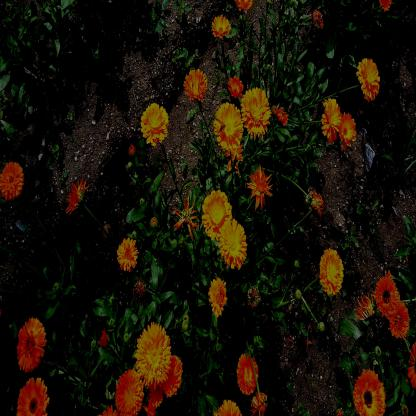marigold: (135, 321, 170, 381), (17, 318, 45, 371), (354, 370, 383, 416), (115, 369, 143, 415), (242, 88, 269, 134), (202, 192, 229, 237), (17, 378, 48, 416), (215, 102, 242, 145), (141, 104, 168, 144), (0, 162, 25, 204), (319, 247, 341, 294), (221, 224, 244, 266), (359, 59, 380, 104), (237, 354, 258, 395), (323, 98, 340, 143), (376, 278, 394, 317), (390, 301, 408, 338), (163, 359, 181, 396), (184, 70, 206, 99), (252, 174, 270, 205), (118, 238, 137, 266), (340, 115, 356, 146), (210, 280, 226, 310), (212, 15, 229, 36), (148, 382, 162, 404), (228, 77, 242, 95)
